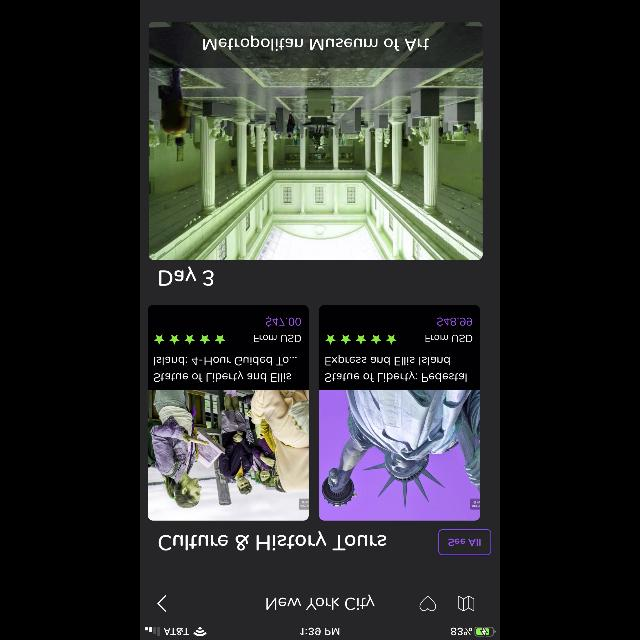icon: (154, 334, 226, 344), (326, 334, 396, 344), (458, 595, 474, 611), (419, 596, 436, 610), (158, 594, 166, 612)
image: (150, 22, 482, 260), (320, 390, 480, 520), (148, 390, 308, 520)
text: (160, 530, 386, 550), (204, 36, 428, 50), (267, 594, 375, 610), (326, 371, 466, 381), (154, 372, 292, 382), (326, 355, 450, 365), (155, 357, 297, 365), (160, 266, 214, 286), (426, 334, 472, 342), (255, 334, 301, 342), (266, 316, 302, 326), (438, 316, 472, 326)
textbutton: (438, 529, 492, 555)
uppertaskbar: (140, 626, 500, 640)
